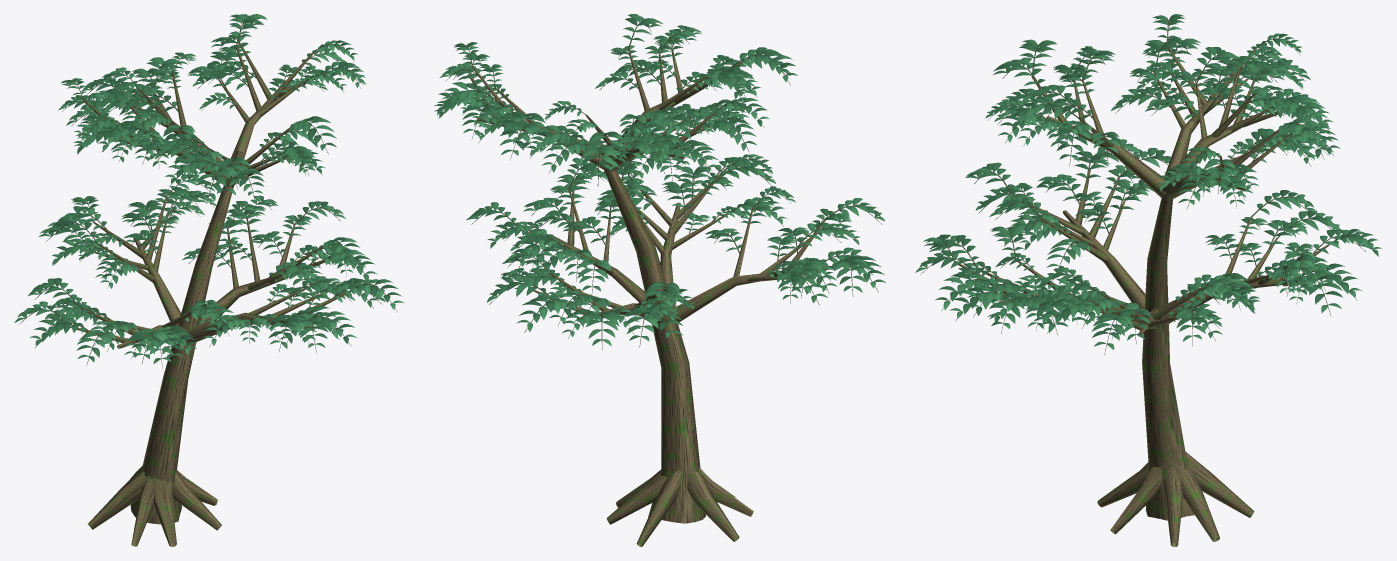
Rendered from Leaning River Myrtle.glb.
3 views of the same model, side by side, from view 1: azimuth 30°, elevation 25°; view 2: azimuth 150°, elevation 25°; view 3: azimuth 270°, elevation 25° (orthographic). The views are drawn at different scales.
Parts seen in each view (by area): view 1: Leaning River Myrtle; view 2: Leaning River Myrtle; view 3: Leaning River Myrtle.
Boxes of the visible parts, <box> form: Leaning River Myrtle: <box>14,14,404,546</box>; Leaning River Myrtle: <box>434,14,885,546</box>; Leaning River Myrtle: <box>915,14,1381,546</box>.
Size of the model in its own units: 9.53 by 10.28 by 9.18.
3 materials, 1 textured.
